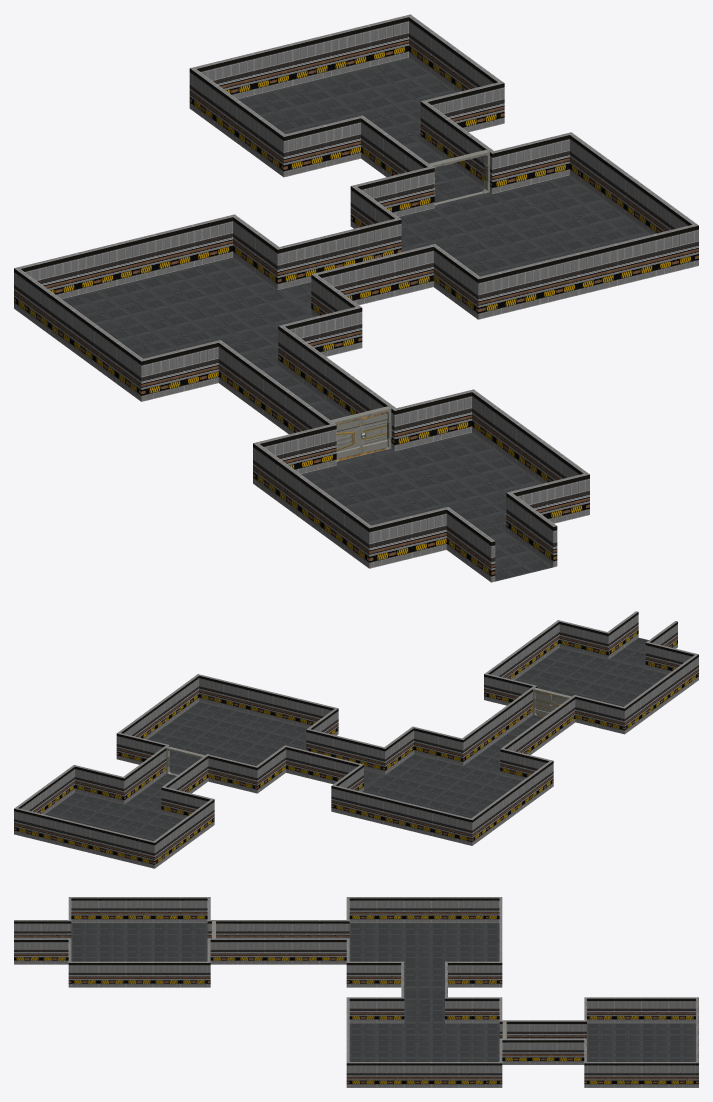
File: labsMap.fbx
The picture shows the model from 3 angles, top to bottom: view 1: azimuth 30°, elevation 25°; view 2: azimuth 150°, elevation 25°; view 3: azimuth 270°, elevation 25°; orthographic projection. The views are drawn at different scales.
Parts seen in each view (by area): view 1: Floor4, Floor6, Floor2, wall22, Floor8, wall16, wall8, wall7, wall3, wall21, wall10, wall5 (+27 smaller); view 2: Floor6, Floor4, Floor2, wall16, wall8, wall22, Floor8, wall7, wall3, wall27, wall21, wall24 (+27 smaller); view 3: Floor4, Floor6, Floor2, Floor8, wall7, wall21, wall29, wall27, wall3, wall15, wall17, wall5 (+11 smaller).
Part boxes in pixels (box(x1,y1,x2,y2)): Floor4: box(62, 257, 313, 369); Floor6: box(399, 175, 650, 276); Floor2: box(301, 432, 541, 536); wall22: box(476, 224, 698, 319); Floor8: box(238, 57, 456, 145); wall16: box(189, 14, 412, 109); wall8: box(14, 214, 236, 309); wall7: box(16, 269, 142, 399); wall3: box(255, 444, 370, 566); wall21: box(569, 134, 696, 234); wall10: box(280, 218, 397, 288); wall5: box(218, 341, 333, 434); Floor6: box(147, 701, 307, 773); Floor4: box(362, 754, 522, 818); Floor2: box(515, 647, 667, 706); wall16: box(14, 807, 156, 868); wall8: box(331, 785, 473, 845); wall22: box(197, 674, 338, 734); Floor8: box(45, 792, 183, 841); wall7: box(471, 761, 551, 844); wall3: box(624, 655, 697, 732); wall27: box(462, 686, 535, 764); wall21: box(118, 675, 198, 739); wall24: box(308, 729, 383, 773); Floor4: box(349, 923, 499, 986); Floor6: box(349, 1023, 499, 1061); Floor2: box(71, 923, 207, 961); Floor8: box(587, 1023, 695, 1061); wall7: box(349, 897, 499, 922); wall21: box(349, 1062, 499, 1087); wall29: box(71, 961, 207, 987); wall27: box(210, 938, 346, 964); wall3: box(71, 897, 207, 922); wall15: box(587, 997, 695, 1023); wall17: box(587, 1062, 695, 1087); wall5: box(210, 920, 346, 938).
Bounding box in the file's own units: 41.1 × 3.02 × 71.63.
